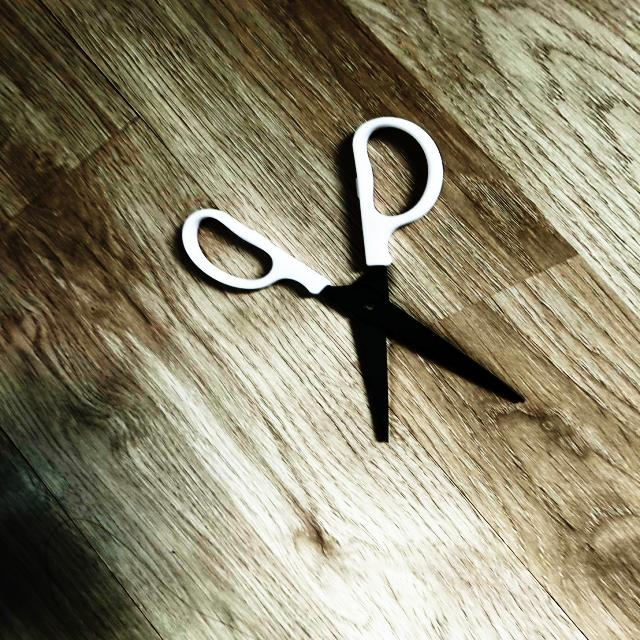Scissors: (182, 117, 522, 441)
